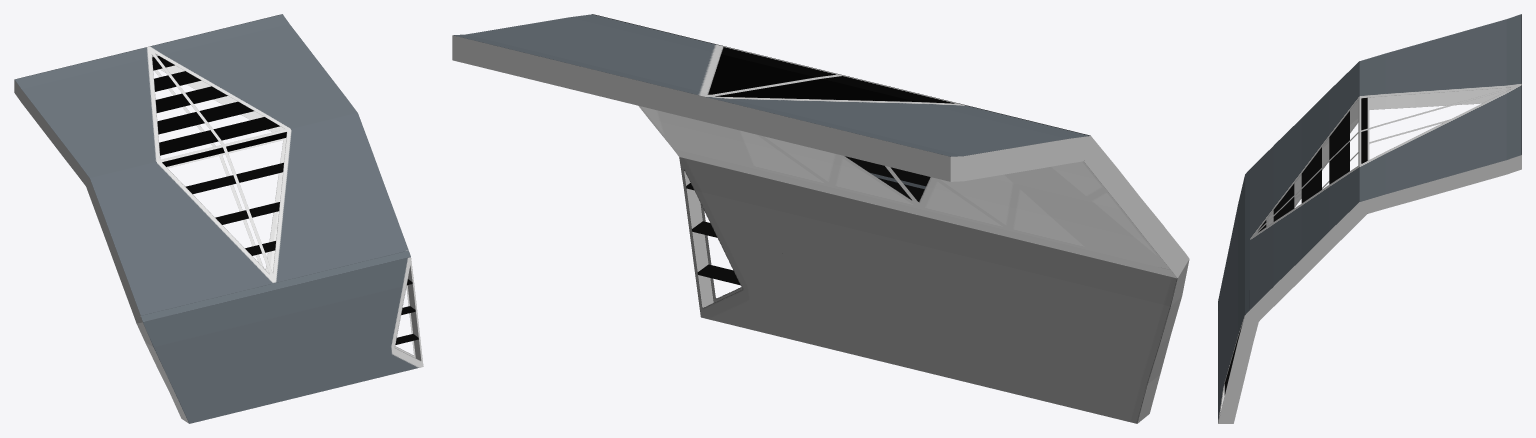
Rendered from dc_metro_roof_j13.obj.
The picture shows the model from 3 angles, left to right: view 1: azimuth 30°, elevation 25°; view 2: azimuth 150°, elevation 25°; view 3: azimuth 270°, elevation 25°; orthographic projection. The views are drawn at different scales.
Parts seen in each view (by area): view 1: cube; view 2: cube; view 3: cube.
Boxes of the visible parts, x1=… form: cube: x1=14, y1=14, x2=423, y2=423; cube: x1=452, y1=14, x2=1189, y2=423; cube: x1=1218, y1=14, x2=1521, y2=423.
Bounding box in the file's own units: 11 × 9.79 × 10.02.
3 materials, 3 textured.
